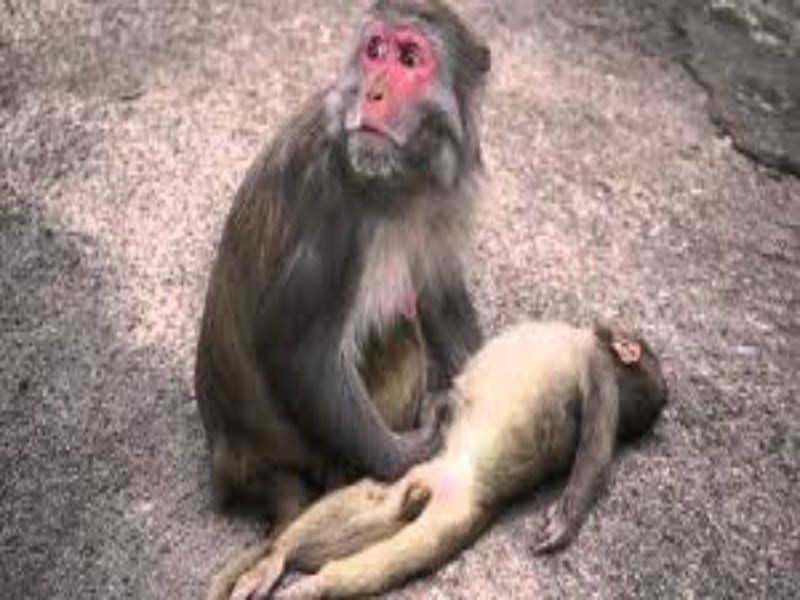monkey: (190, 6, 681, 592)
